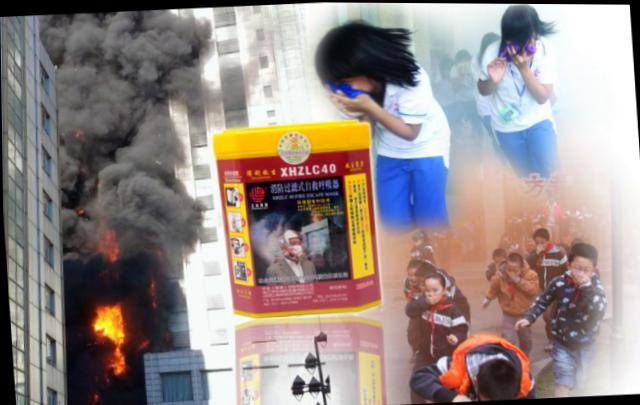fire: (92, 303, 123, 338), (104, 341, 122, 372)
